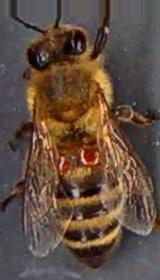varroa_mite: (74, 142, 106, 171), (51, 150, 71, 178)
